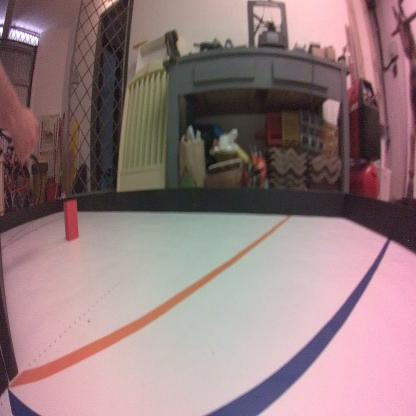red: (62, 197, 79, 244)
